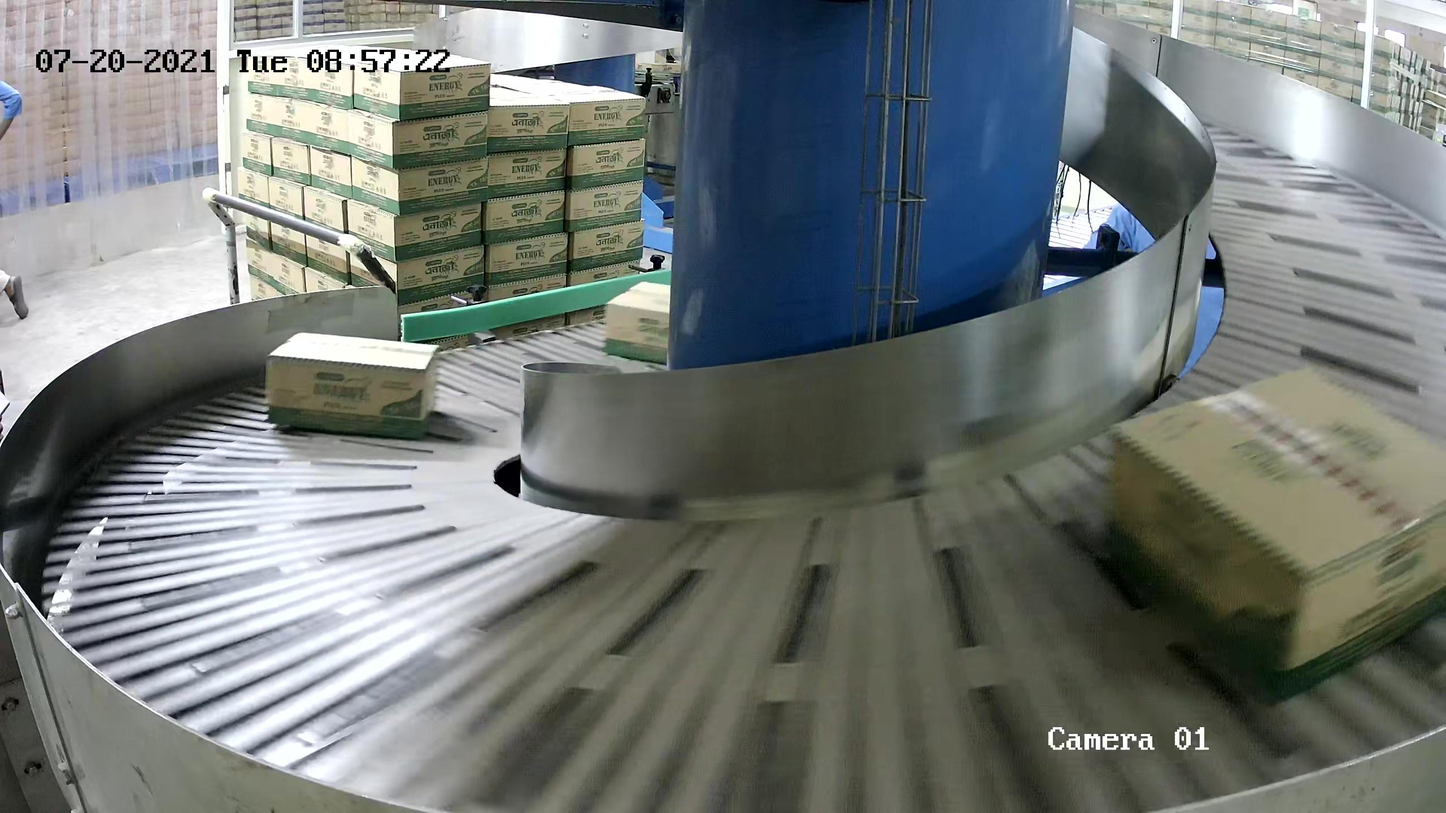Box: (1103, 357, 1446, 712), (264, 327, 443, 444), (602, 278, 685, 365)
